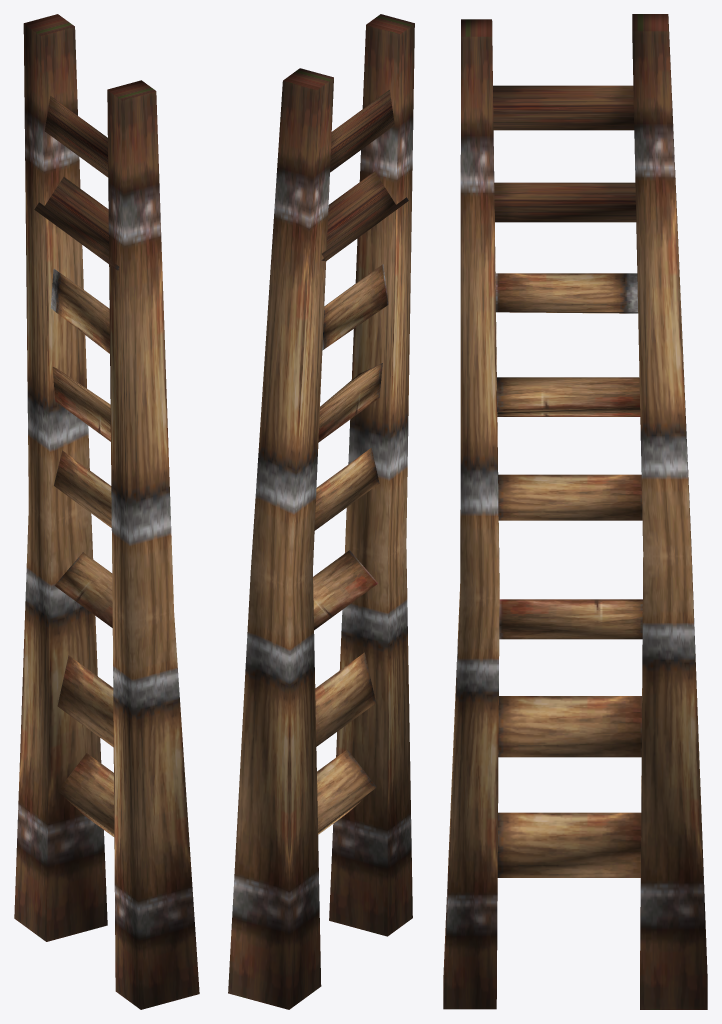
File: alteracladder01.obj
3 views of the same model, side by side, from view 1: azimuth 30°, elevation 25°; view 2: azimuth 150°, elevation 25°; view 3: azimuth 270°, elevation 25° (orthographic). The views are drawn at different scales.
Visible parts, largest first — view 1: alteracladder01; view 2: alteracladder01; view 3: alteracladder01.
Boxes of the visible parts, box(x1,y1,x2,y2) form: alteracladder01: box(14, 14, 199, 1009); alteracladder01: box(228, 14, 414, 1009); alteracladder01: box(443, 14, 707, 1009).
Bounding box in the file's own units: 0.5355 × 6.62 × 1.65.
Materials: 1 (1 with a texture image).
